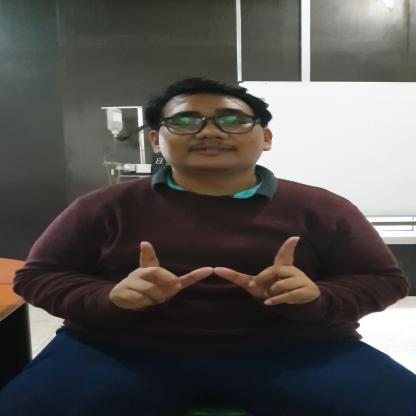W: (110, 235, 318, 310)
